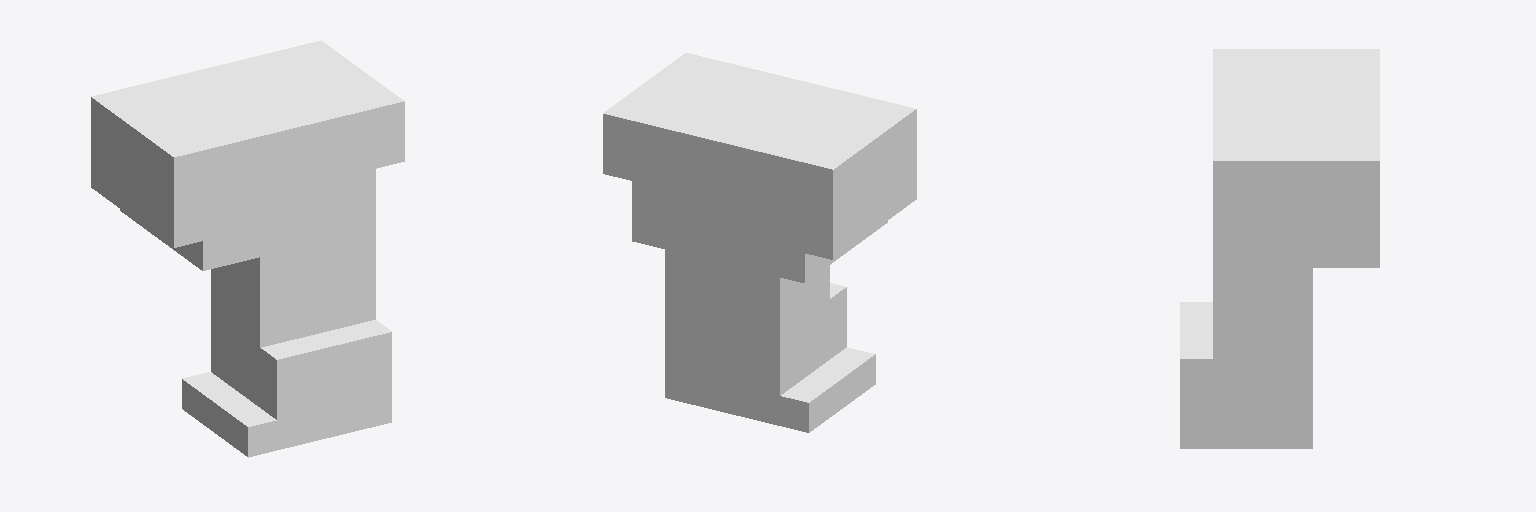
The model's file is Character1_RightLeg.obj.
3 renders of one model, left to right at view 1: azimuth 30°, elevation 25°; view 2: azimuth 150°, elevation 25°; view 3: azimuth 270°, elevation 25°, orthographic.
Parts seen in each view (by area): view 1: object 1; view 2: object 1; view 3: object 1.
Boxes of the visible parts, x1,y1,x2,y2 form: object 1: [91, 40, 404, 457]; object 1: [603, 53, 916, 432]; object 1: [1180, 49, 1379, 448].
Bounding box in the file's own units: 0.8 × 1 × 0.6.